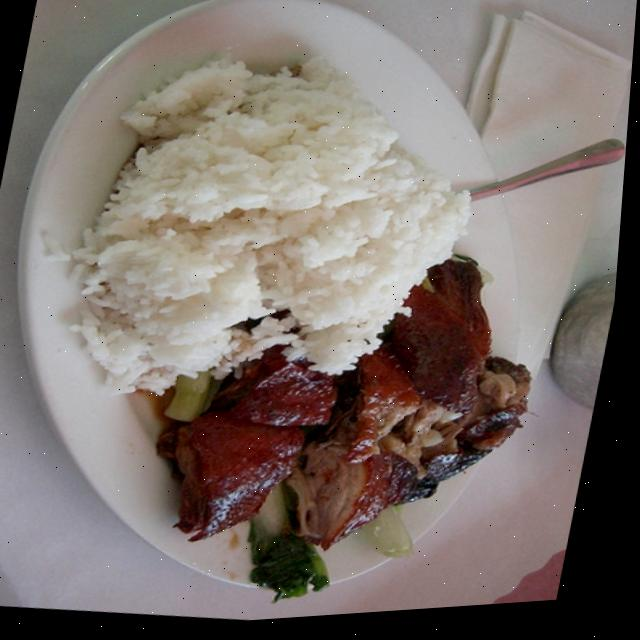米饭主食: (17, 2, 606, 622)
